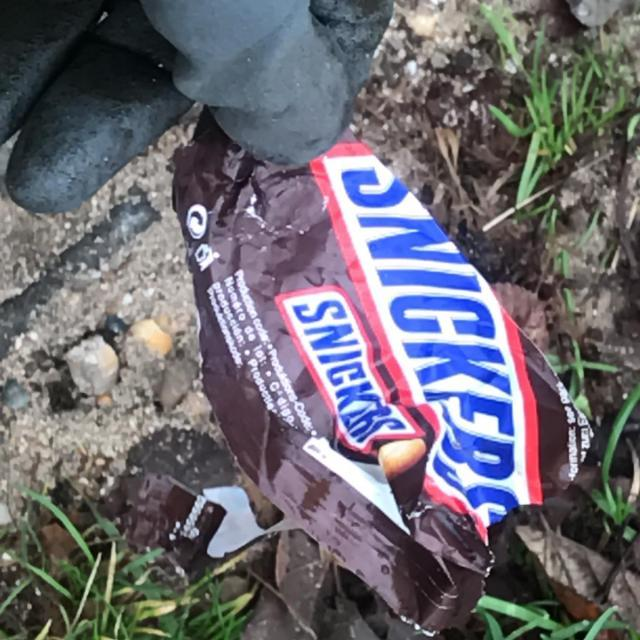Plastic: (166, 96, 604, 640)
